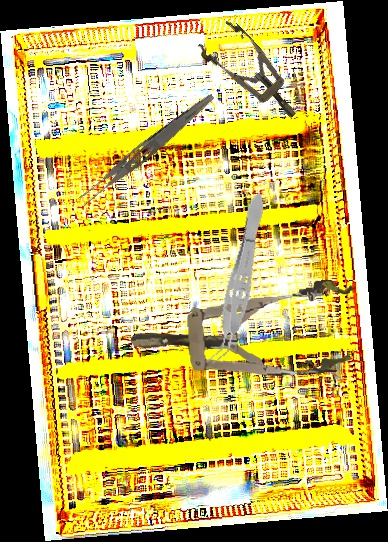Dressing Forceps: (74, 86, 218, 211)
Speculum: (128, 278, 359, 386), (194, 15, 311, 133)
Tissue Forceps: (205, 189, 273, 371)
